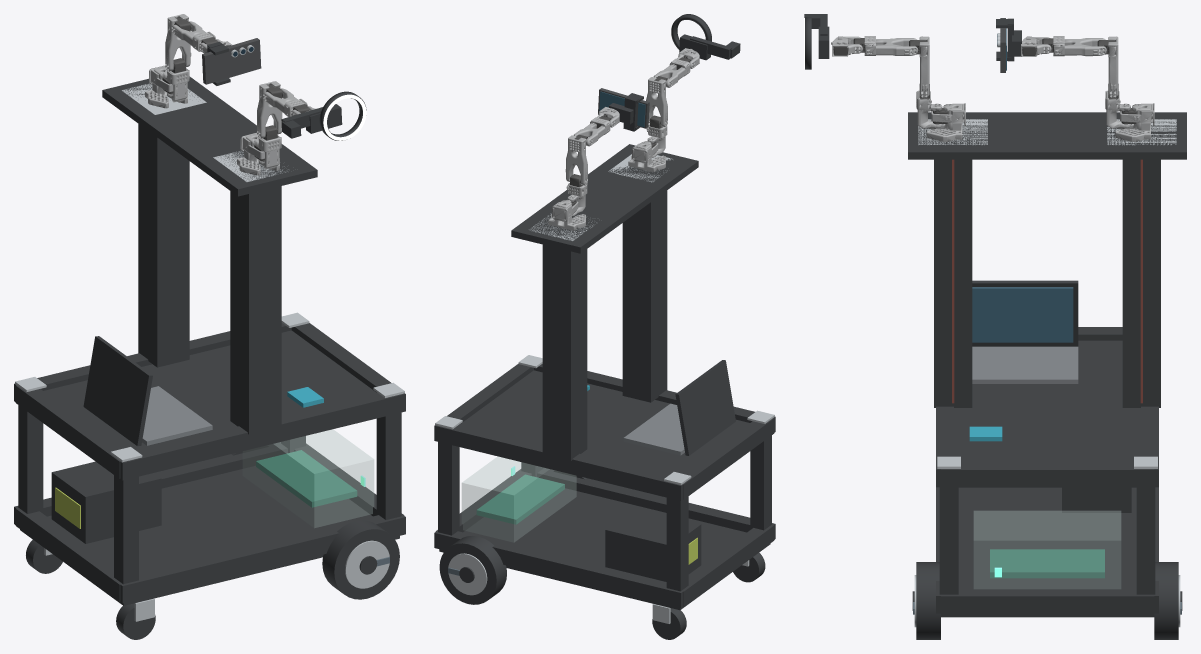
The model's file is take-one-ring.glb.
The picture shows the model from 3 angles, left to right: view 1: azimuth 30°, elevation 25°; view 2: azimuth 150°, elevation 25°; view 3: azimuth 270°, elevation 25°; orthographic projection. The views are drawn at different scales.
Visible parts, largest first — view 1: cart_box, upright_rear, upright_front, cart_work_deck, electronics_box, cart_deck, frame_side_0.25_0.49, frame_side_0.25_0.15, battery, laptop_lid, frame_end_-0.39_0.49, frame_end_-0.39_0.15 (+21 smaller); view 2: upright_front, cart_work_deck, upright_rear, cart_box, cart_deck, electronics_box, frame_side_-0.25_0.49, frame_side_-0.25_0.15, battery, laptop_lid, frame_side_0.25_0.15, frame_end_-0.39_0.15 (+19 smaller); view 3: cart_work_deck, cart_box, electronics_box, cart_deck, upright_front, upright_rear, laptop_screen, frame_end_0.39_0.15, frame_end_0.39_0.49, laptop_keyboard, electronics_board, corner_leg_0.24_0.38 (+19 smaller).
Boxes of the visible parts, x1=… form: cart_box: x1=20, y1=466, x2=399, y2=605; upright_rear: x1=230, y1=186, x2=281, y2=434; upright_front: x1=138, y1=124, x2=189, y2=367; cart_work_deck: x1=44, y1=330, x2=376, y2=450; electronics_box: x1=243, y1=429, x2=373, y2=527; cart_deck: x1=102, y1=76, x2=317, y2=196; frame_side_0.25_0.49: x1=120, y1=392, x2=405, y2=480; frame_side_0.25_0.15: x1=118, y1=514, x2=405, y2=603; battery: x1=51, y1=461, x2=161, y2=543; laptop_lid: x1=83, y1=336, x2=152, y2=446; frame_end_-0.39_0.49: x1=15, y1=385, x2=121, y2=478; frame_end_-0.39_0.15: x1=15, y1=508, x2=120, y2=601; upright_front: x1=542, y1=244, x2=587, y2=460; cart_work_deck: x1=460, y1=370, x2=749, y2=475; upright_rear: x1=622, y1=190, x2=667, y2=402; cart_box: x1=439, y1=488, x2=770, y2=610; cart_deck: x1=511, y1=144, x2=698, y2=253; electronics_box: x1=462, y1=456, x2=576, y2=542; frame_side_-0.25_0.49: x1=434, y1=424, x2=688, y2=500; frame_side_-0.25_0.15: x1=434, y1=531, x2=683, y2=607; battery: x1=605, y1=508, x2=701, y2=581; laptop_lid: x1=675, y1=360, x2=735, y2=455; frame_side_0.25_0.15: x1=537, y1=468, x2=775, y2=539; frame_end_-0.39_0.15: x1=681, y1=525, x2=774, y2=606; cart_work_deck: x1=954, y1=340, x2=1140, y2=462; cart_box: x1=941, y1=487, x2=1154, y2=617; electronics_box: x1=974, y1=511, x2=1120, y2=588; cart_deck: x1=908, y1=112, x2=1186, y2=159; upright_front: x1=1122, y1=159, x2=1160, y2=407; upright_rear: x1=934, y1=159, x2=972, y2=407; laptop_screen: x1=972, y1=287, x2=1073, y2=342; frame_end_0.39_0.15: x1=941, y1=588, x2=1154, y2=613; frame_end_0.39_0.49: x1=941, y1=462, x2=1154, y2=487; laptop_keyboard: x1=972, y1=346, x2=1078, y2=383; electronics_board: x1=990, y1=549, x2=1104, y2=578; corner_leg_0.24_0.38: x1=939, y1=487, x2=958, y2=594.
Size of the model in its own units: 0.824 by 1.56 by 0.9337.
